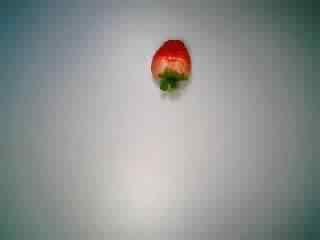strawberry: (132, 34, 198, 96)
